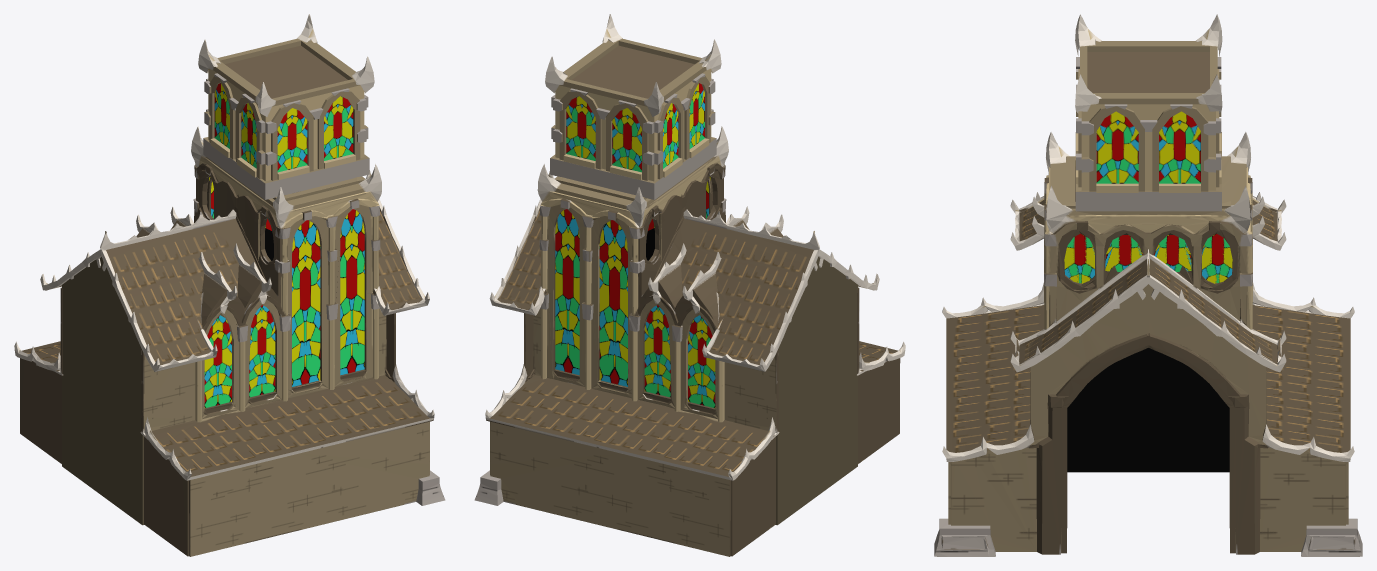
The picture shows the model from 3 angles, left to right: view 1: azimuth 30°, elevation 25°; view 2: azimuth 150°, elevation 25°; view 3: azimuth 270°, elevation 25°; orthographic projection. The views are drawn at different scales.
Parts seen in each view (by area): view 1: Base3, Expansion; view 2: Base3, Expansion; view 3: Base3, Expansion.
Part boxes in pixels (bbox=[...]): Base3: bbox=[14, 126, 445, 556]; Expansion: bbox=[198, 14, 374, 199]; Base3: bbox=[474, 126, 905, 556]; Expansion: bbox=[545, 14, 721, 199]; Base3: bbox=[934, 132, 1362, 556]; Expansion: bbox=[1075, 14, 1222, 211].
Size of the model in its own units: 66.91 by 93.82 by 76.77.
